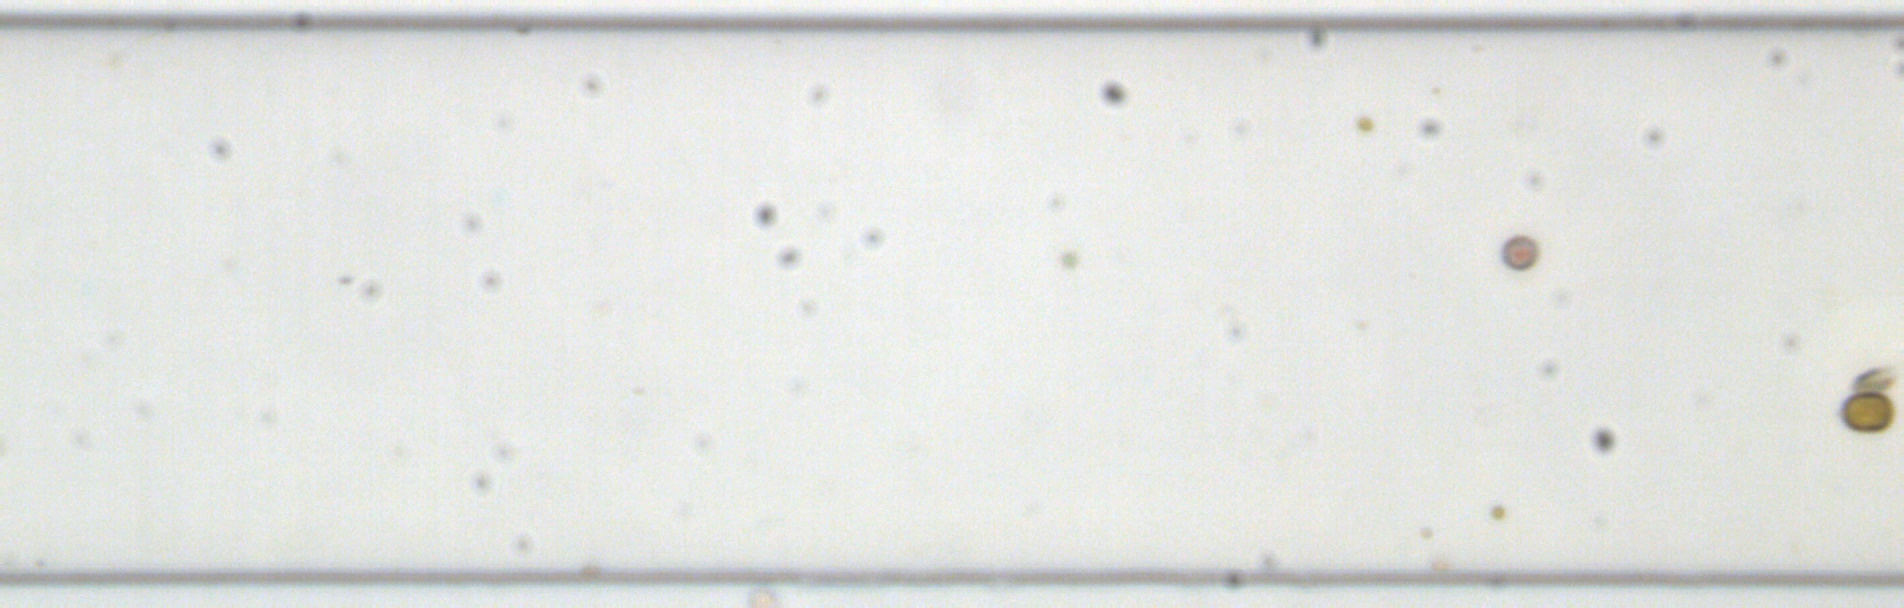Chlorella: (1354, 113, 1373, 132), (1060, 250, 1079, 269), (1489, 502, 1507, 521)
Dunaliella salina: (1846, 362, 1898, 396)
Effrenium: (1836, 390, 1895, 434)
Porphyridium: (1498, 232, 1540, 273)
